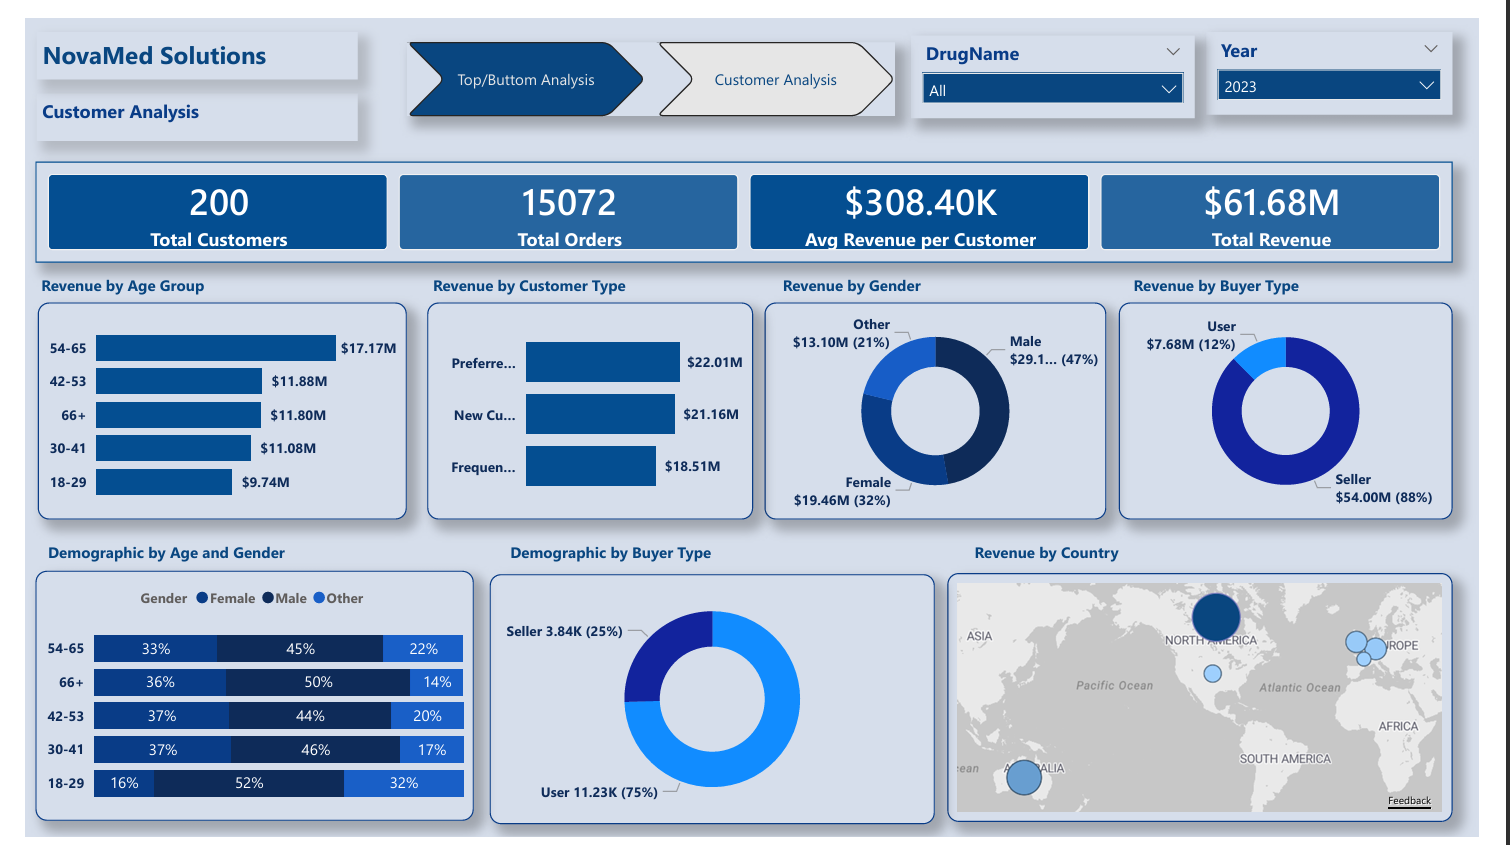

The dashboard page shown, as its layout file describes it:
{"tool":"powerbi","page":{"name":"Customer Analysis","canvas":[1280,720],"ordinal":1},"visuals":[{"type":"cardVisual","fields":{"Data":["Measure Table.Total Customers","Measure Table.Total Orders","Measure Table.Avg Revenue per Customer","Measure Table.Total Revenue"]},"box":[9.1,125.7,1247.7,89.3],"z":0},{"type":"textbox","box":[10.3,11.6,282.8,42.6],"z":1000},{"type":"textbox","box":[10.3,65.9,282.8,42.6],"z":2000},{"type":"donutChart","fields":{"Y":["Measure Table.Total Revenue"],"Category":["CustomerTable.Gender"]},"box":[651.1,249.8,301.3,190.8],"z":3000},{"type":"donutChart","fields":{"Y":["Measure Table.Total Revenue"],"Category":["FactTable.BuyerType"]},"box":[963,249.8,293.8,190.8],"z":4000},{"type":"clusteredBarChart","fields":{"Category":["CustomerTable.Age Group"],"Y":["Measure Table.Total Revenue"]},"box":[10.6,249.8,325.6,190.8],"z":5000},{"type":"azureMap","fields":{"Size":["Measure Table.Total Revenue"],"Category":["CustomerTable.Country"]},"box":[811.6,487.6,445.2,219.6],"z":6000},{"type":"clusteredBarChart","fields":{"Y":["Measure Table.Total Revenue"],"Category":["CustomerTable.OtherCustomerInfo"]},"box":[354.3,249.8,286.2,190.8],"z":7000},{"type":"textbox","box":[661.7,221.1,278.6,28.8],"z":8000},{"type":"textbox","box":[970.6,221.1,248.3,28.8],"z":9000},{"type":"textbox","box":[831.3,455.8,278.6,28.8],"z":10000},{"type":"textbox","box":[9.1,221.1,278.6,28.8],"z":11000},{"type":"slicer","fields":{"Values":["CalenderDim.Year"]},"box":[1040.3,12.1,216.5,72.7],"z":12000},{"type":"pageNavigator","box":[336.2,21.2,430,65.1],"z":13000},{"type":"slicer","fields":{"Values":["DrugLookup.DrugName"]},"box":[779.8,15.1,249.8,72.7],"z":14000},{"type":"textbox","box":[354.3,221.1,278.6,28.8],"z":15000},{"type":"hundredPercentStackedBarChart","fields":{"Category":["CustomerTable.Age Group"],"Y":["CountNonNull(CustomerTable.CustomerID)"],"Series":["CustomerTable.Gender"]},"box":[9.1,486.1,386.1,219.6],"z":16000},{"type":"donutChart","fields":{"Category":["FactTable.BuyerType"],"Y":["CountNonNull(FactTable.CustomerID)"]},"box":[408.8,489.1,392.2,219.6],"z":17000},{"type":"textbox","box":[15.1,455.8,278.6,28.8],"z":18000},{"type":"textbox","box":[422.5,455.8,278.6,28.8],"z":19000}]}

Visuals, with their boxes in screenshot pixels (x1, y1, x2, y2), scaled from the page's 1280x720 canvas onto the 1510x845 screenshot:
cardVisual - Measure Table.Total Customers x Measure Table.Total Orders: <region>11, 148, 1483, 252</region>
textbox: <region>12, 14, 346, 64</region>
textbox: <region>12, 77, 346, 127</region>
donutChart - Measure Table.Total Revenue x CustomerTable.Gender: <region>768, 293, 1124, 517</region>
donutChart - Measure Table.Total Revenue x FactTable.BuyerType: <region>1136, 293, 1483, 517</region>
clusteredBarChart - CustomerTable.Age Group x Measure Table.Total Revenue: <region>13, 293, 397, 517</region>
azureMap - Measure Table.Total Revenue x CustomerTable.Country: <region>957, 572, 1483, 830</region>
clusteredBarChart - Measure Table.Total Revenue x CustomerTable.OtherCustomerInfo: <region>418, 293, 756, 517</region>
textbox: <region>781, 259, 1109, 293</region>
textbox: <region>1145, 259, 1438, 293</region>
textbox: <region>981, 535, 1309, 569</region>
textbox: <region>11, 259, 339, 293</region>
slicer - CalenderDim.Year: <region>1227, 14, 1483, 100</region>
pageNavigator: <region>397, 25, 904, 101</region>
slicer - DrugLookup.DrugName: <region>920, 18, 1215, 103</region>
textbox: <region>418, 259, 747, 293</region>
hundredPercentStackedBarChart - CustomerTable.Age Group x CountNonNull(CustomerTable.CustomerID): <region>11, 570, 466, 828</region>
donutChart - FactTable.BuyerType x CountNonNull(FactTable.CustomerID): <region>482, 574, 945, 832</region>
textbox: <region>18, 535, 346, 569</region>
textbox: <region>498, 535, 827, 569</region>
